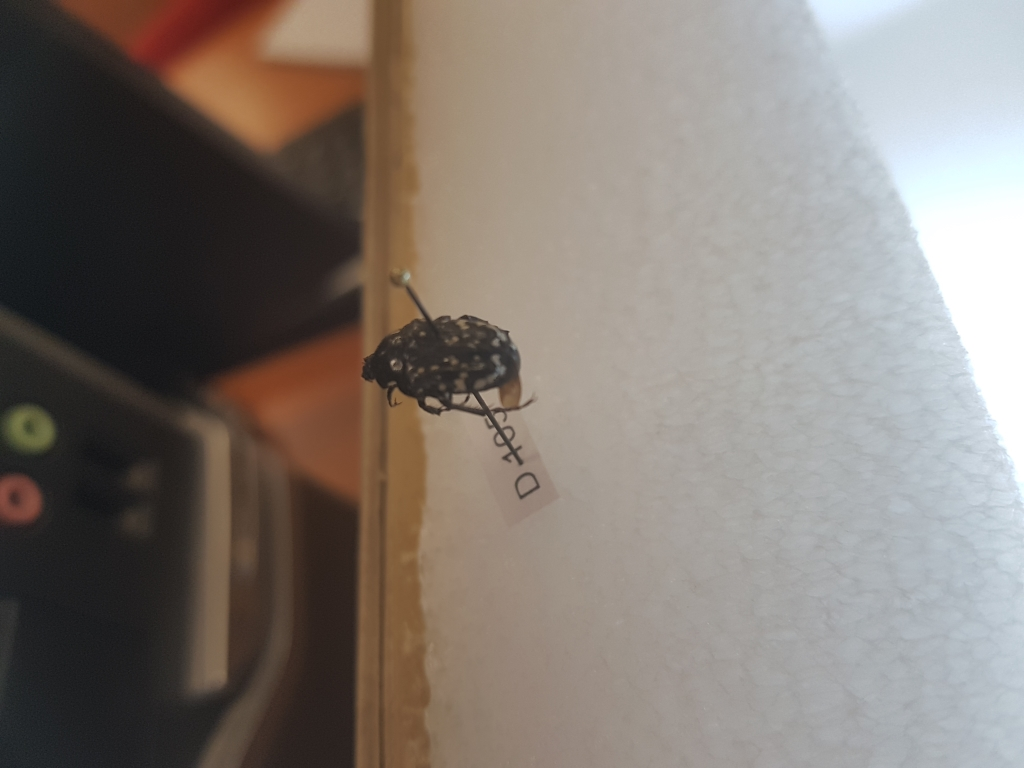Oxythyrea_cinctella: (358, 300, 546, 415)
